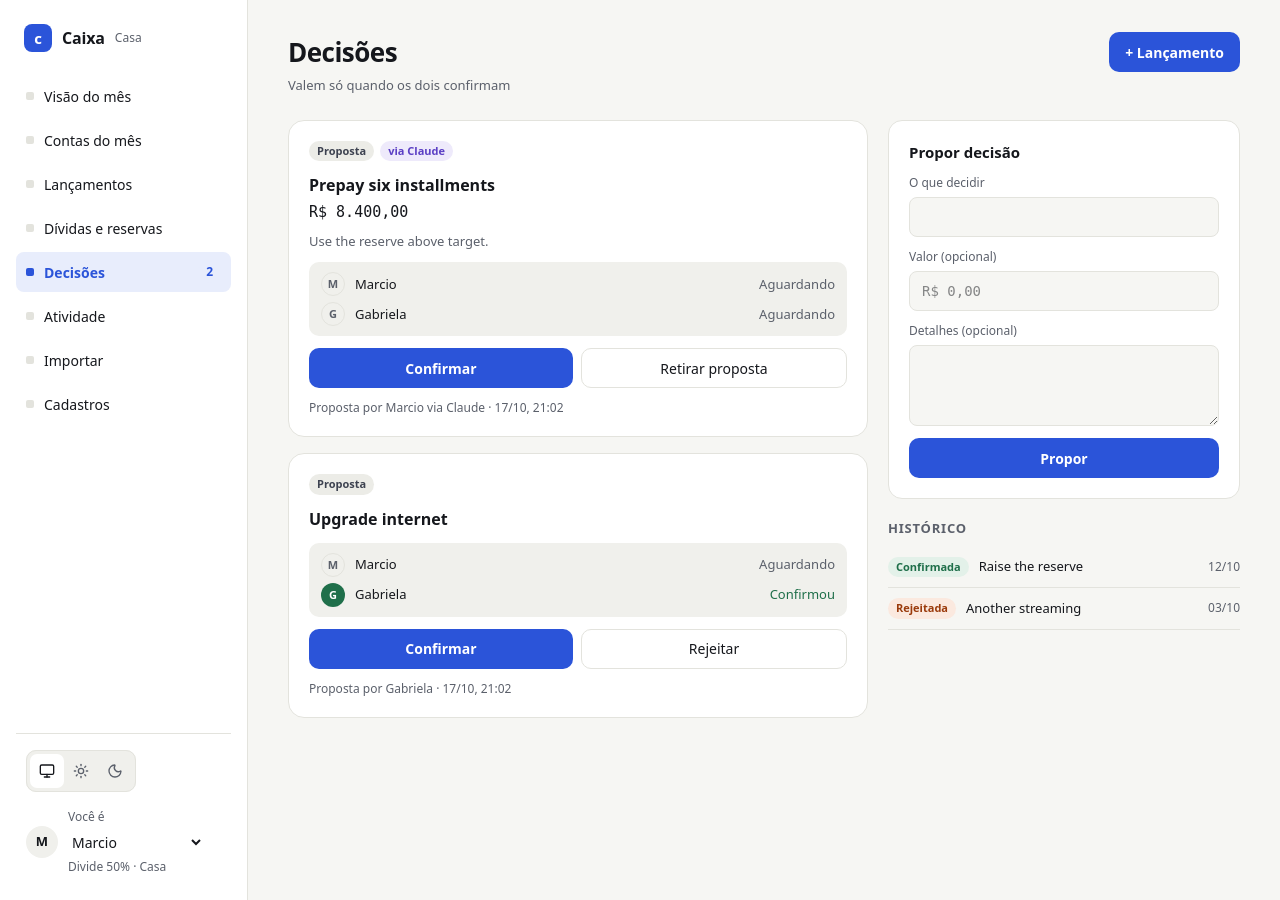
confirming the last awaited member moves the decision to the history
Click the button "Confirmar" below "Confirmou" at (441, 649), box [309,629,573,669]
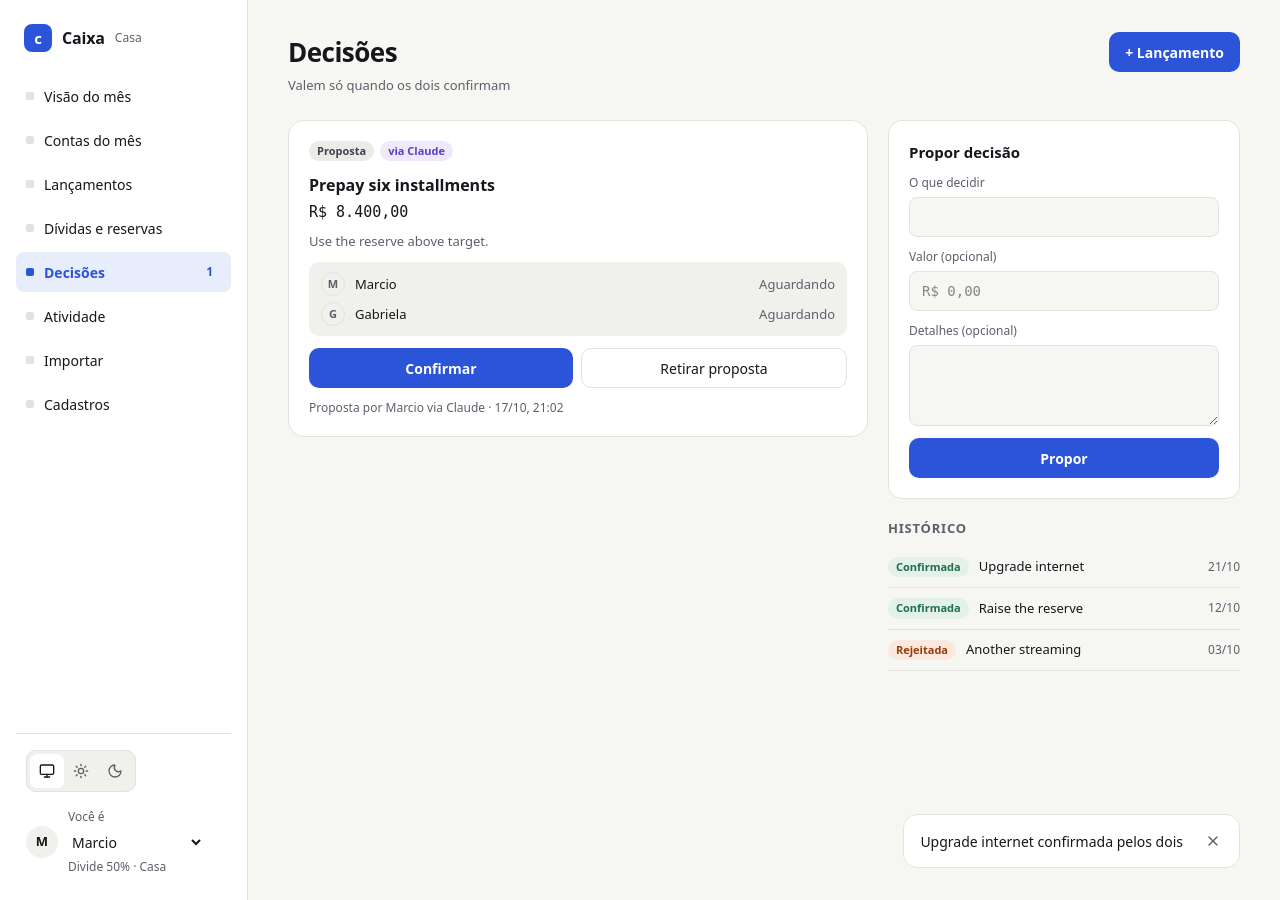
expect the text "Upgrade internet confirmada pelos dois" is shown: met, box [920,830,1183,852]
expect the text "Upgrade internet" is shown: met, box [979,557,1084,575]
